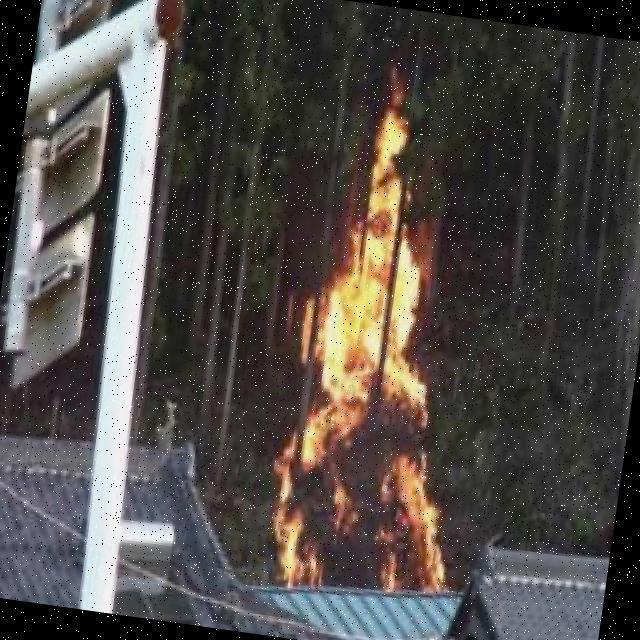Fire: (257, 60, 512, 613)
